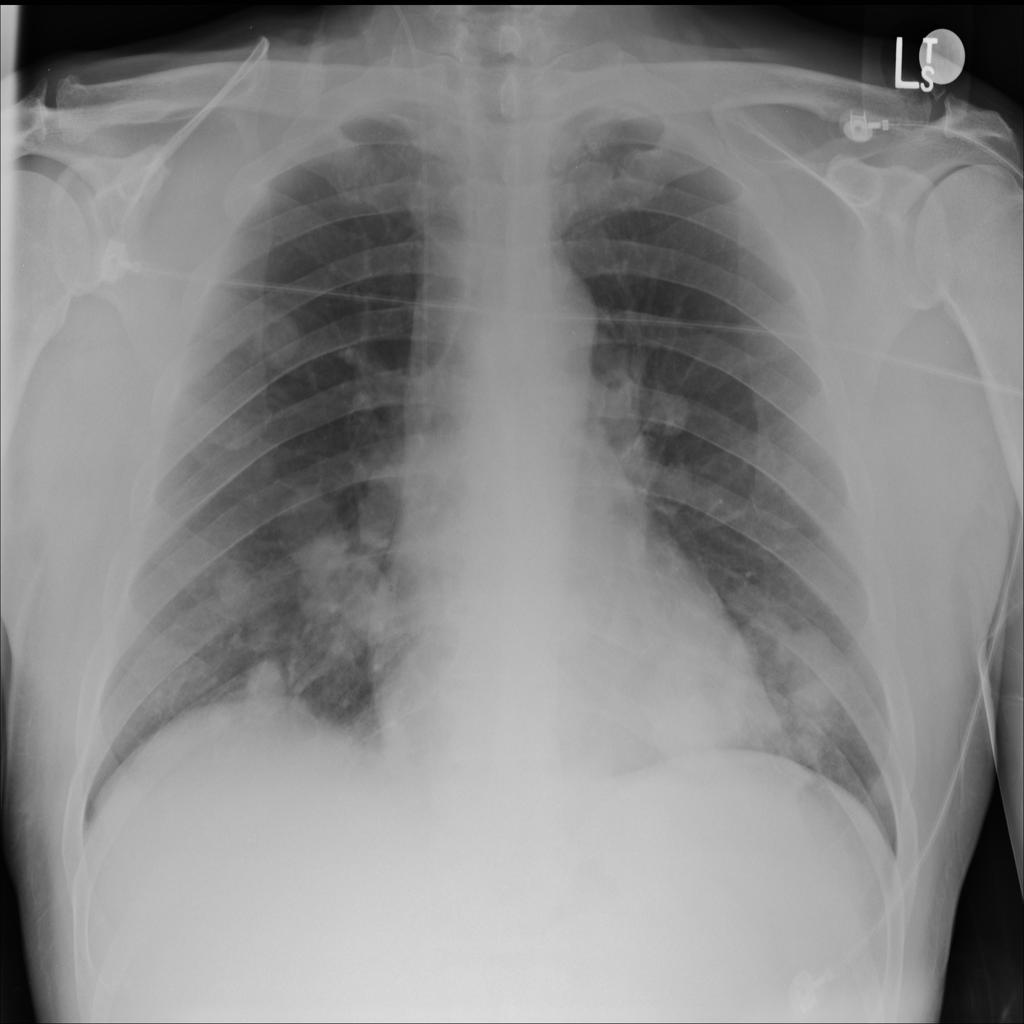nodule: (288, 518, 412, 656), (628, 660, 754, 771), (753, 614, 860, 744), (240, 297, 315, 376), (228, 647, 305, 721), (273, 479, 349, 552), (729, 595, 800, 672), (777, 674, 847, 750), (200, 552, 268, 625), (636, 377, 702, 451), (777, 727, 828, 778), (858, 761, 904, 816)
